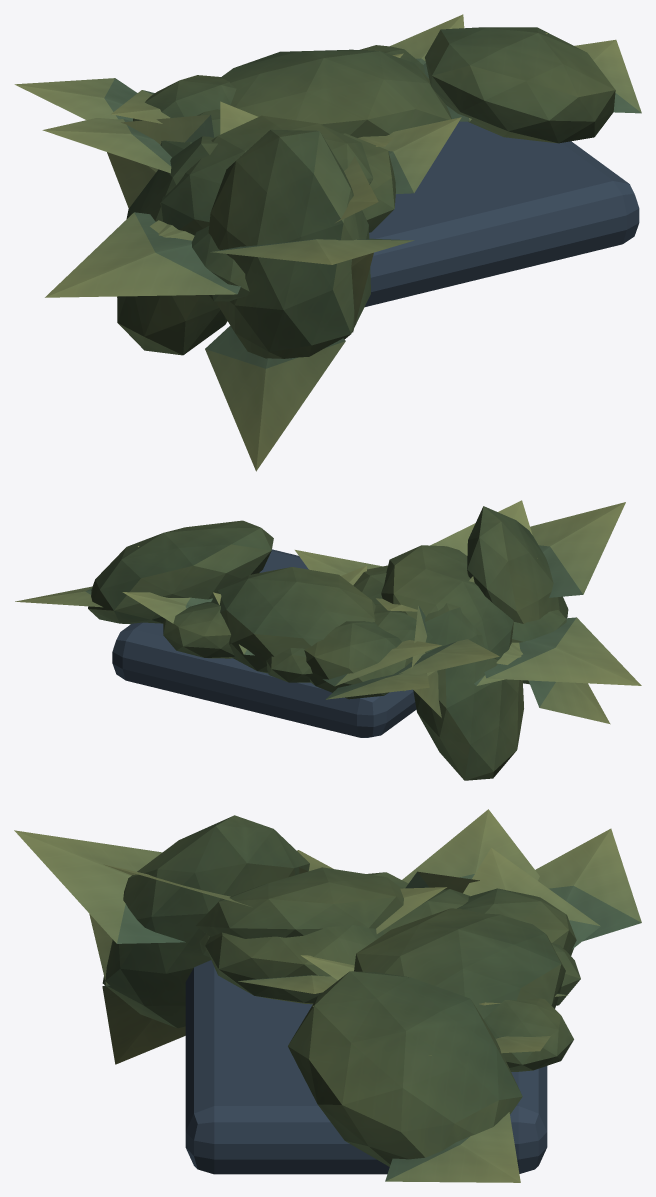
File: kit_roof_tile.glb
3 renders of one model, top to bottom at view 1: azimuth 30°, elevation 25°; view 2: azimuth 150°, elevation 25°; view 3: azimuth 270°, elevation 25°, orthographic. The views are drawn at different scales.
Visible parts, largest first — view 1: Soft edged blue roof tile, Woodland shared moss cushion.058, Woodland shared moss cushion.054, Woodland shared moss cushion.050, Woodland shared curved ivy leaf.126, Woodland shared curved ivy leaf.137, Woodland shared moss cushion.061, Woodland shared moss cushion.059, Woodland shared curved ivy leaf.130, Woodland shared curved ivy leaf.141, Woodland shared curved ivy leaf.123, Woodland shared curved ivy leaf.143 (+10 smaller); view 2: Soft edged blue roof tile, Woodland shared moss cushion.054, Woodland shared moss cushion.061, Woodland shared moss cushion.050, Woodland shared moss cushion.058, Woodland shared moss cushion.059, Woodland shared curved ivy leaf.126, Woodland shared curved ivy leaf.125, Woodland shared moss cushion.060, Woodland shared moss cushion.057, Woodland shared curved ivy leaf.137, Woodland shared curved ivy leaf.130 (+11 smaller); view 3: Woodland shared moss cushion.054, Soft edged blue roof tile, Woodland shared moss cushion.058, Woodland shared moss cushion.050, Woodland shared moss cushion.059, Woodland shared curved ivy leaf.125, Woodland shared moss cushion.051, Woodland shared curved ivy leaf.141, Woodland shared curved ivy leaf.128, Woodland shared moss cushion.057, Woodland shared curved ivy leaf.130, Woodland shared curved ivy leaf.132 (+10 smaller).
Part boxes in pixels (x1,y1,x2,y2): Soft edged blue roof tile: (365, 121, 639, 306); Woodland shared moss cushion.058: (208, 129, 370, 358); Woodland shared moss cushion.054: (425, 27, 615, 143); Woodland shared moss cushion.050: (220, 49, 451, 137); Woodland shared curved ivy leaf.126: (45, 212, 240, 297); Woodland shared curved ivy leaf.137: (205, 325, 345, 471); Woodland shared moss cushion.061: (117, 136, 227, 355); Woodland shared moss cushion.059: (160, 115, 373, 235); Woodland shared curved ivy leaf.130: (42, 118, 171, 173); Woodland shared curved ivy leaf.141: (14, 78, 137, 121); Woodland shared curved ivy leaf.123: (379, 117, 461, 194); Woodland shared curved ivy leaf.143: (107, 114, 214, 208); Soft edged blue roof tile: (112, 549, 416, 737); Woodland shared moss cushion.054: (88, 520, 273, 624); Woodland shared moss cushion.061: (413, 603, 523, 780); Woodland shared moss cushion.050: (211, 567, 375, 673); Woodland shared moss cushion.058: (467, 506, 568, 684); Woodland shared moss cushion.059: (381, 545, 513, 660); Woodland shared curved ivy leaf.126: (484, 617, 641, 685); Woodland shared curved ivy leaf.125: (530, 502, 625, 597); Woodland shared moss cushion.060: (304, 621, 412, 699); Woodland shared moss cushion.057: (163, 602, 234, 658); Woodland shared curved ivy leaf.137: (529, 680, 610, 724); Woodland shared curved ivy leaf.130: (393, 639, 499, 674); Woodland shared moss cushion.054: (288, 971, 522, 1166); Soft edged blue roof tile: (185, 960, 547, 1174); Woodland shared moss cushion.058: (102, 815, 309, 1028); Woodland shared moss cushion.050: (354, 908, 565, 1019); Woodland shared moss cushion.059: (196, 867, 403, 938); Woodland shared curved ivy leaf.125: (14, 830, 185, 943); Woodland shared moss cushion.051: (205, 925, 383, 1004); Woodland shared curved ivy leaf.141: (535, 828, 641, 941); Woodland shared curved ivy leaf.128: (385, 1112, 520, 1182); Woodland shared moss cushion.057: (484, 998, 573, 1071); Woodland shared curved ivy leaf.130: (402, 809, 539, 883); Woodland shared curved ivy leaf.132: (463, 848, 600, 949).
Size of the model in its own units: 0.7795 by 0.3074 by 0.5904.
Materials: 4 (3 with a texture image).
